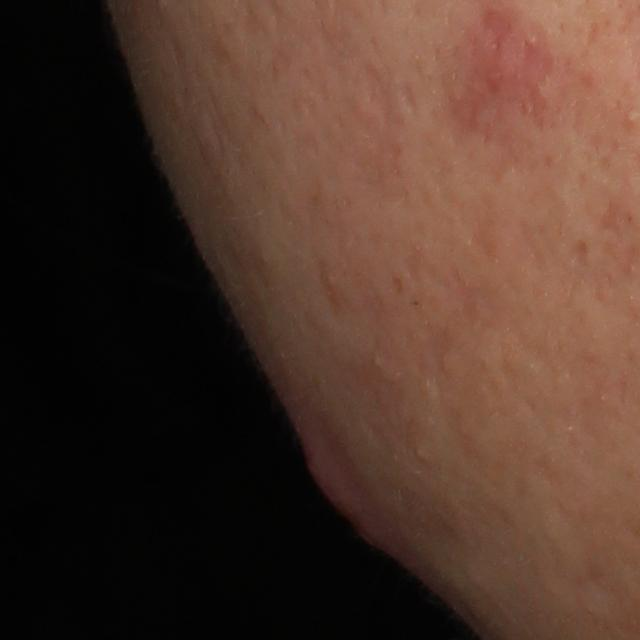atrophic_scar: (569, 233, 593, 271)
